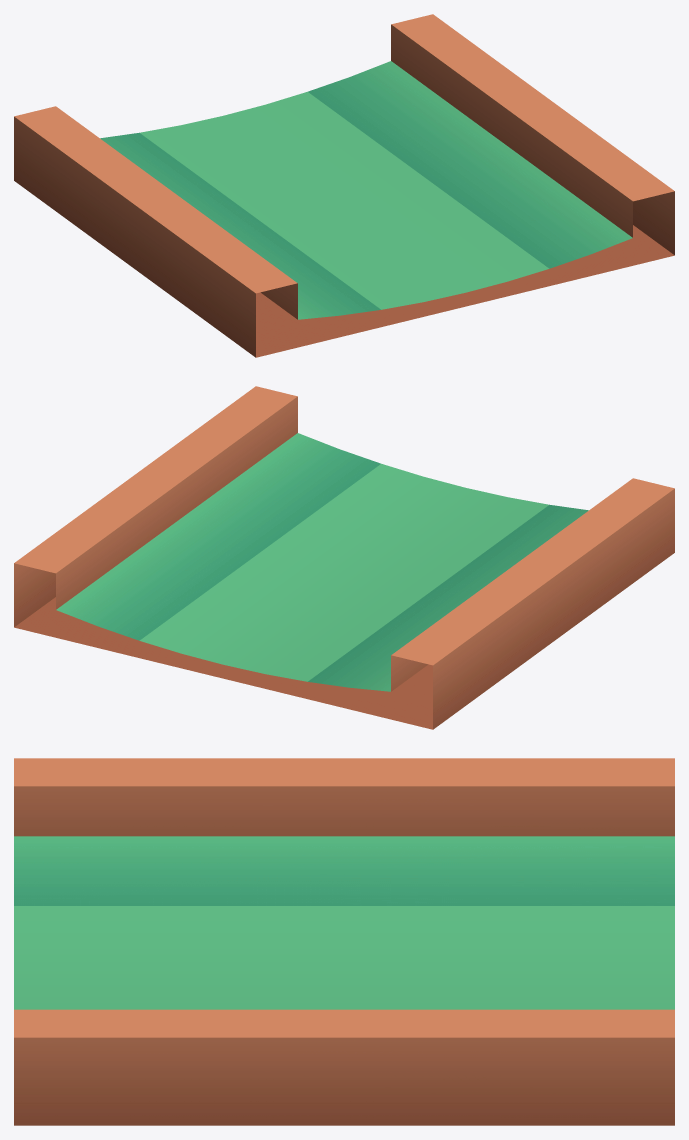
File: spline-concave.glb
3 views of the same model, one above another, from view 1: azimuth 30°, elevation 25°; view 2: azimuth 150°, elevation 25°; view 3: azimuth 270°, elevation 25° (orthographic). The views are drawn at different scales.
Parts seen in each view (by area): view 1: spline-concave; view 2: spline-concave; view 3: spline-concave.
Boxes of the visible parts, x1,y1,x2,y2 form: spline-concave: [14, 14, 674, 357]; spline-concave: [14, 386, 674, 729]; spline-concave: [14, 758, 674, 1125].
Bounding box in the file's own units: 0.9999 × 0.1467 × 0.9999.
1 material, 1 textured.
